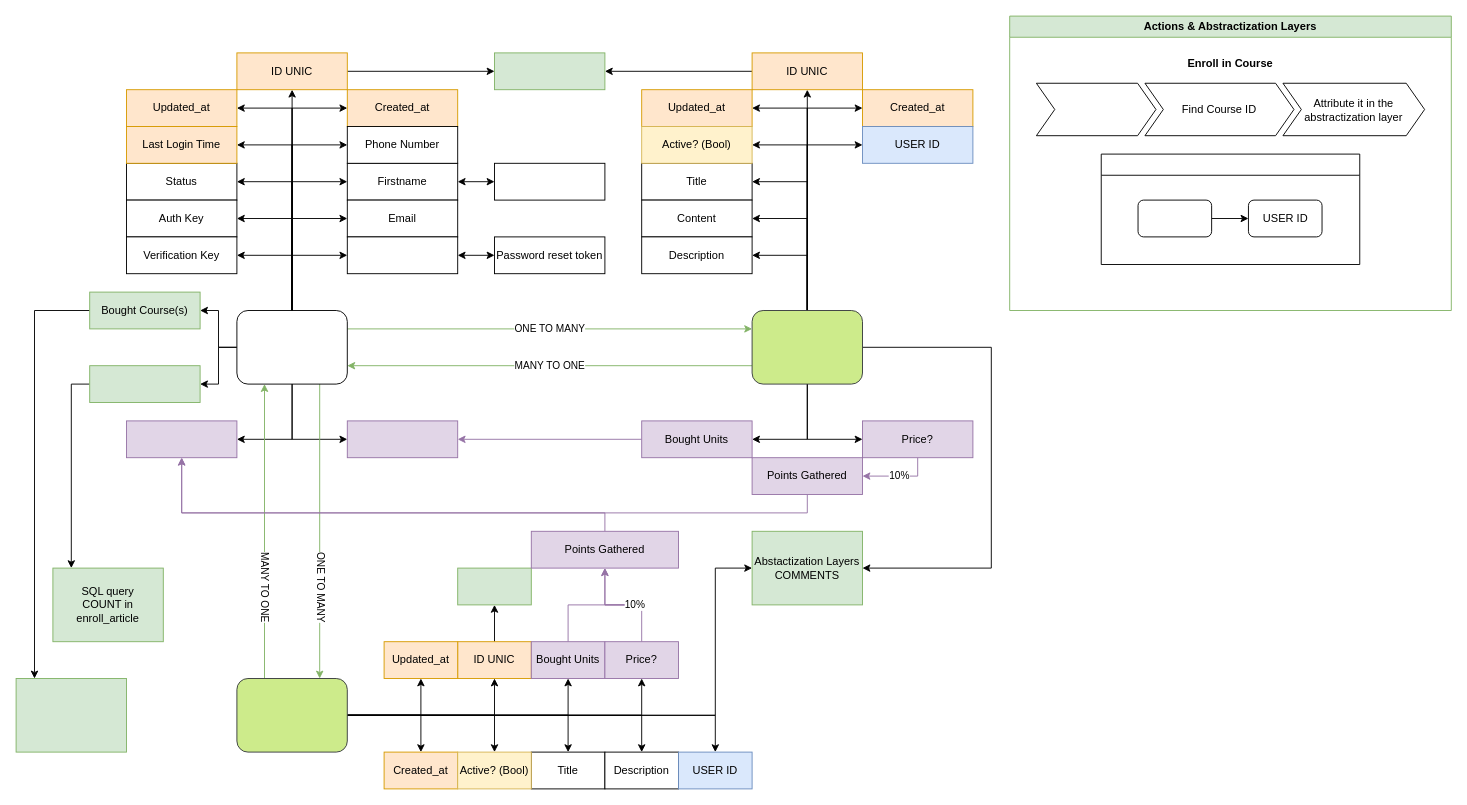
The diagram is 1467 pixels wide and 805 high, and some of its shapes have lost their labels. Each missing label, with the box of its shape:
Abstactization Layers: (457, 567, 531, 605)
Abstractization layers: (494, 52, 605, 90)
Article(s): (751, 310, 862, 384)
Bought Article(s): (89, 365, 200, 402)
Course Abstractization Layer: (1100, 153, 1360, 264)
COURSE ID: (1137, 199, 1212, 237)
Course(s): (236, 678, 347, 752)
Find User ID: (1035, 82, 1156, 136)
Lastname: (494, 162, 605, 200)
Pasword Hash: (346, 236, 458, 274)
Points: (126, 420, 237, 458)
Rating: (346, 420, 458, 458)
SQL query COUNT in enroll_course: (15, 678, 126, 752)
User: (236, 310, 347, 384)
